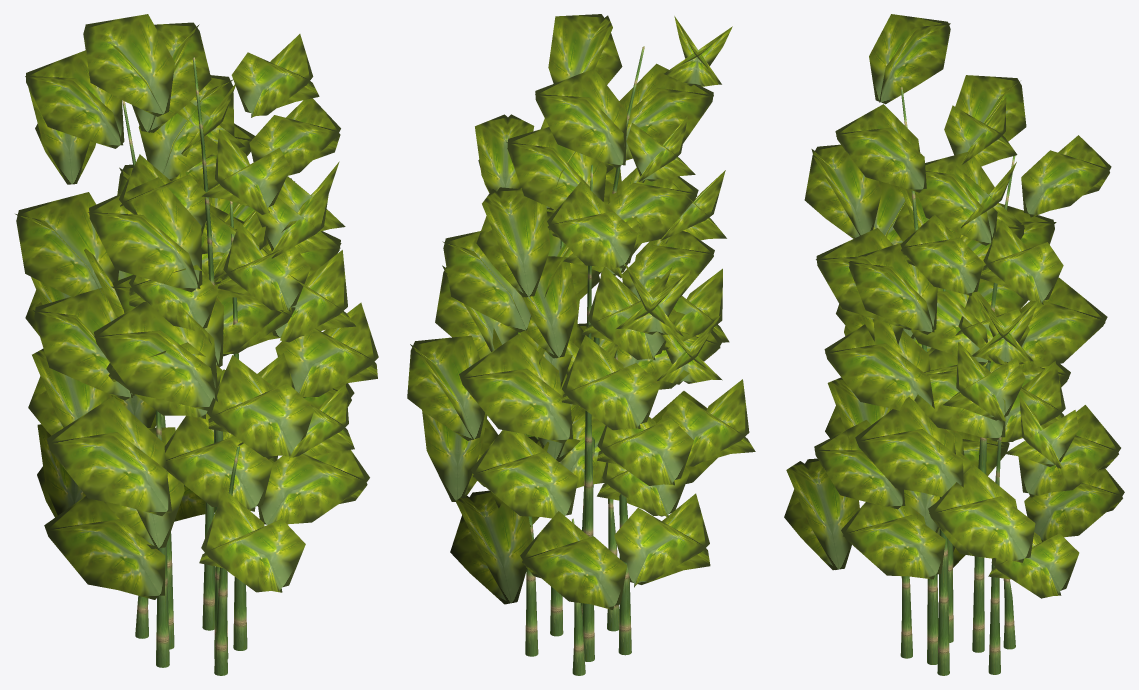
File: Bamboo.gltf
The picture shows the model from 3 angles, left to right: view 1: azimuth 30°, elevation 25°; view 2: azimuth 150°, elevation 25°; view 3: azimuth 270°, elevation 25°; orthographic projection. The views are drawn at different scales.
Parts seen in each view (by area): view 1: tree; view 2: tree; view 3: tree.
Boxes of the visible parts, x1,y1,x2,y2 form: tree: (15, 14, 378, 675); tree: (407, 14, 755, 675); tree: (784, 14, 1124, 675).
Bounding box in the file's own units: 106 × 214 × 111.
2 materials, 2 textured.
